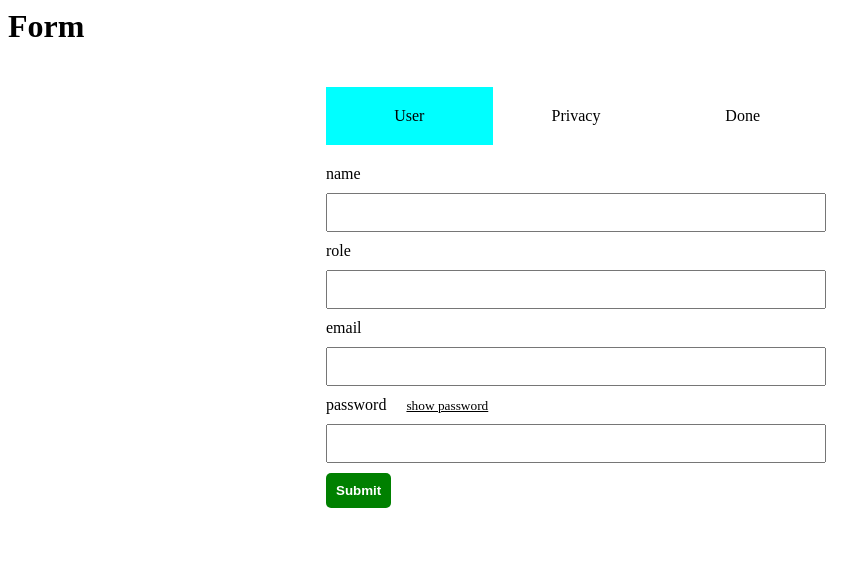
Test case: TrayForm › when a user tries to click submit without valid information › should display error messages for required fields
The width and height of the screenshot is (843, 579).
Step 1. Click the button with test id "submit-userForm" → point(359, 490), box [326,473,391,508]
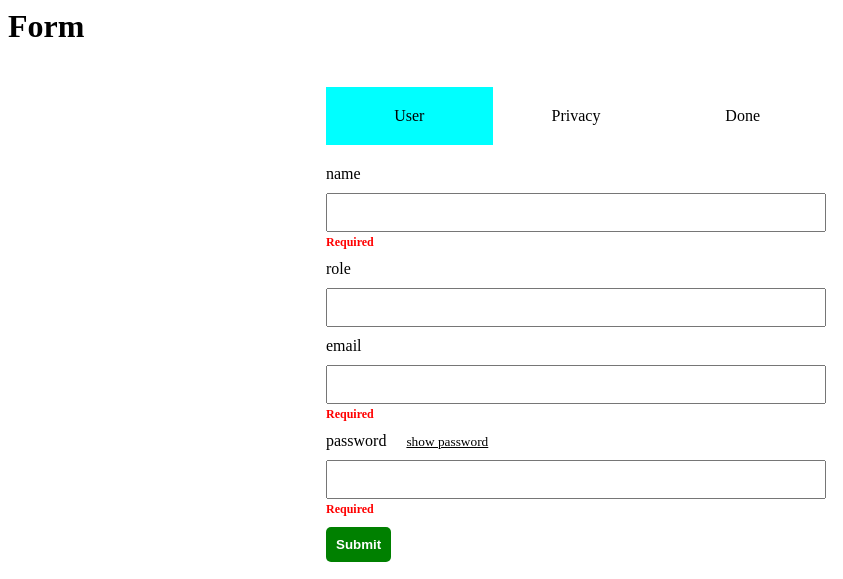
Expected: the text "Required" is shown 3 times, [326,235,374,249]; [326,407,374,421]; [326,502,374,516]
